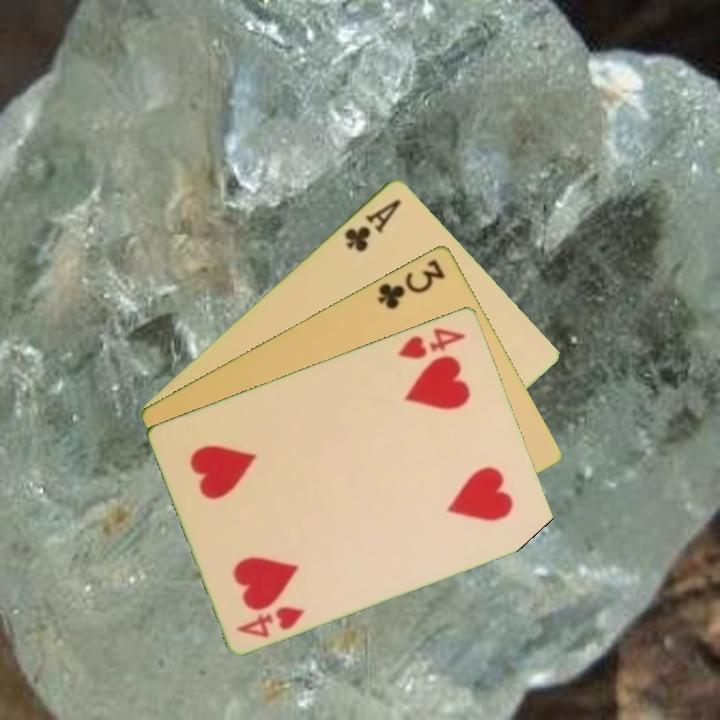3c: (374, 255, 448, 312)
4h: (395, 323, 469, 362), (233, 602, 308, 640)
Ac: (340, 195, 404, 255)
